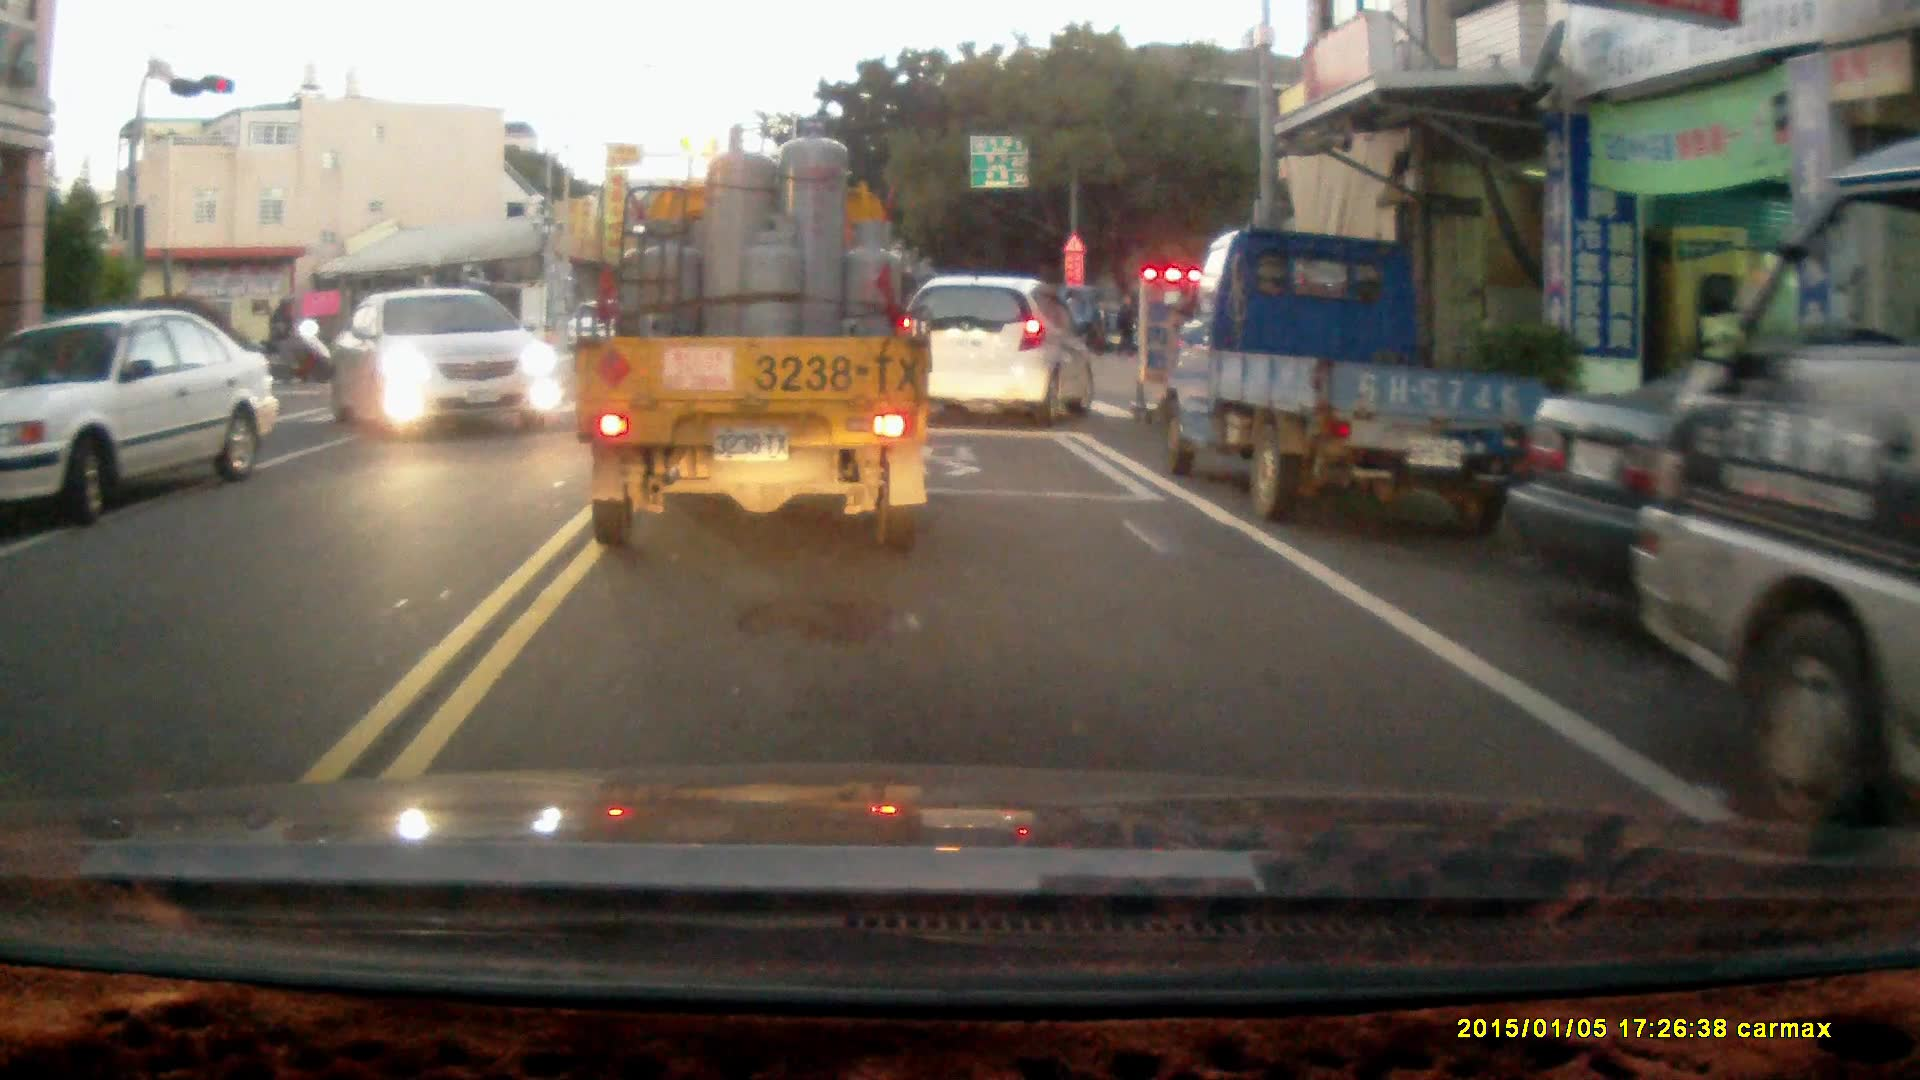rider: (247, 298, 331, 387)
vehicle: (1629, 146, 1920, 801), (572, 116, 936, 554), (1171, 229, 1548, 538), (4, 314, 275, 518), (326, 289, 564, 434), (901, 276, 1105, 424)
